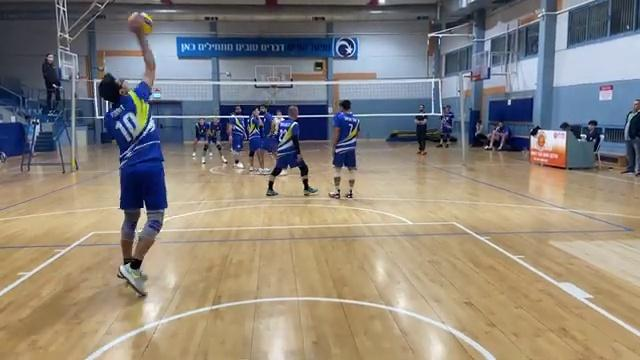ball: (125, 10, 155, 34)
